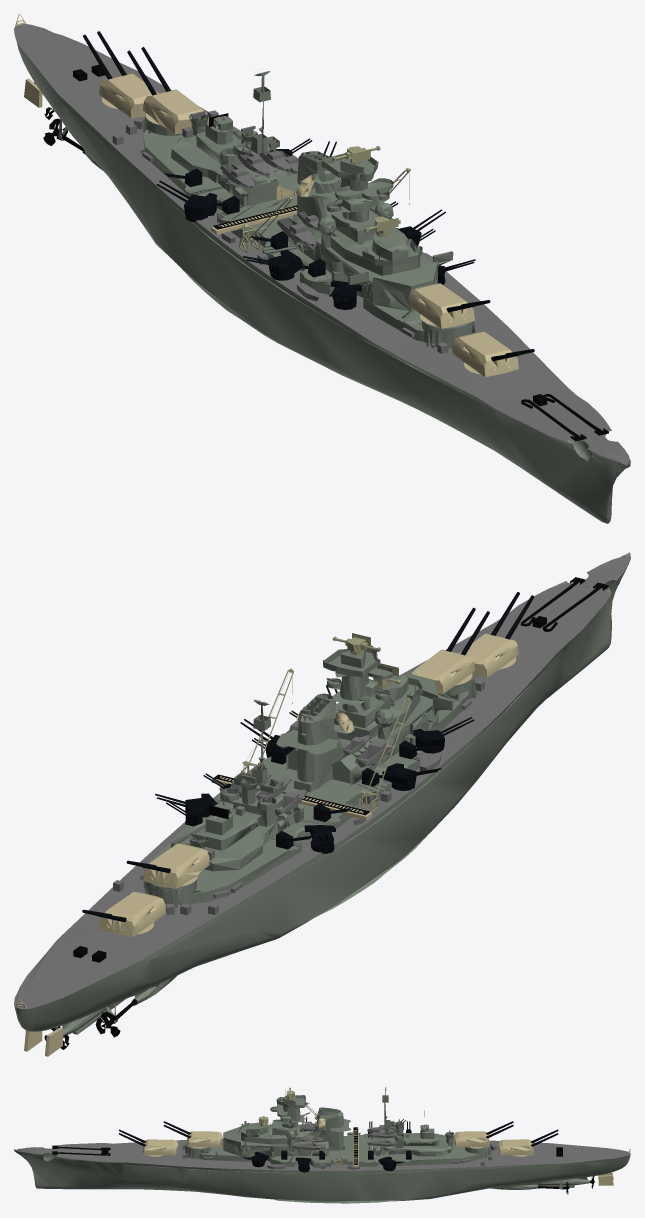
The model's file is bsm.obj.
The picture shows the model from 3 angles, top to bottom: view 1: azimuth 30°, elevation 25°; view 2: azimuth 150°, elevation 25°; view 3: azimuth 270°, elevation 25°; orthographic projection. The views are drawn at different scales.
Visible parts, largest first — view 1: Object01; view 2: Object01; view 3: Object01.
Boxes of the visible parts, x1,y1,x2,y2 form: Object01: (14,14,630,523); Object01: (14,552,630,1056); Object01: (14,1087,630,1203).
Bounding box in the file's own units: 11706 × 11338 × 62383.
